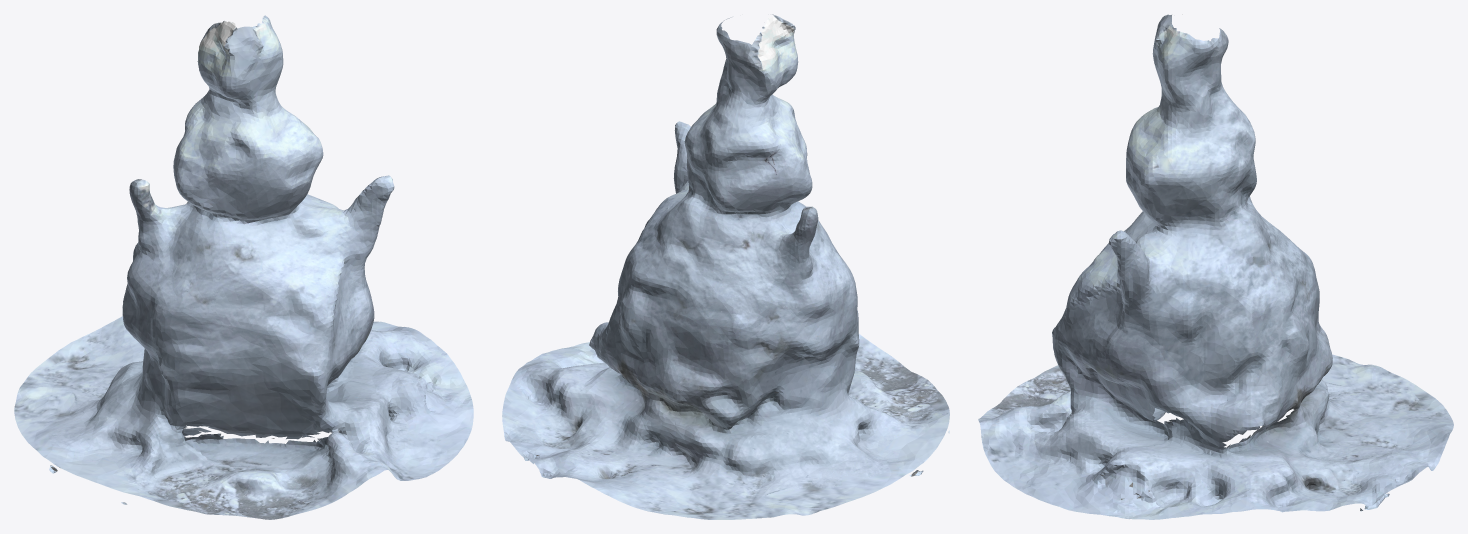
File: snowman.glb
3 views of the same model, side by side, from view 1: azimuth 30°, elevation 25°; view 2: azimuth 150°, elevation 25°; view 3: azimuth 270°, elevation 25° (orthographic). The views are drawn at different scales.
Parts seen in each view (by area): view 1: mesh; view 2: mesh; view 3: mesh.
Part boxes in pixels (<box>): mesh: <box>14,15,473,519</box>; mesh: <box>502,14,949,519</box>; mesh: <box>978,14,1453,519</box>.
Size of the model in its own units: 2.31 by 2.36 by 2.42.
1 material, 1 textured.
